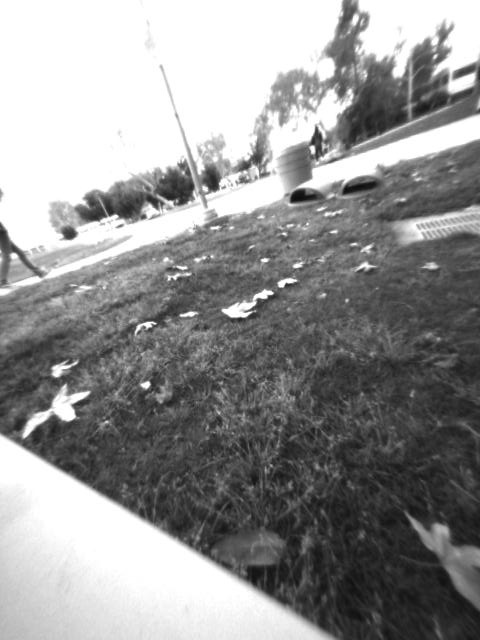trashcan: (273, 139, 314, 192)
